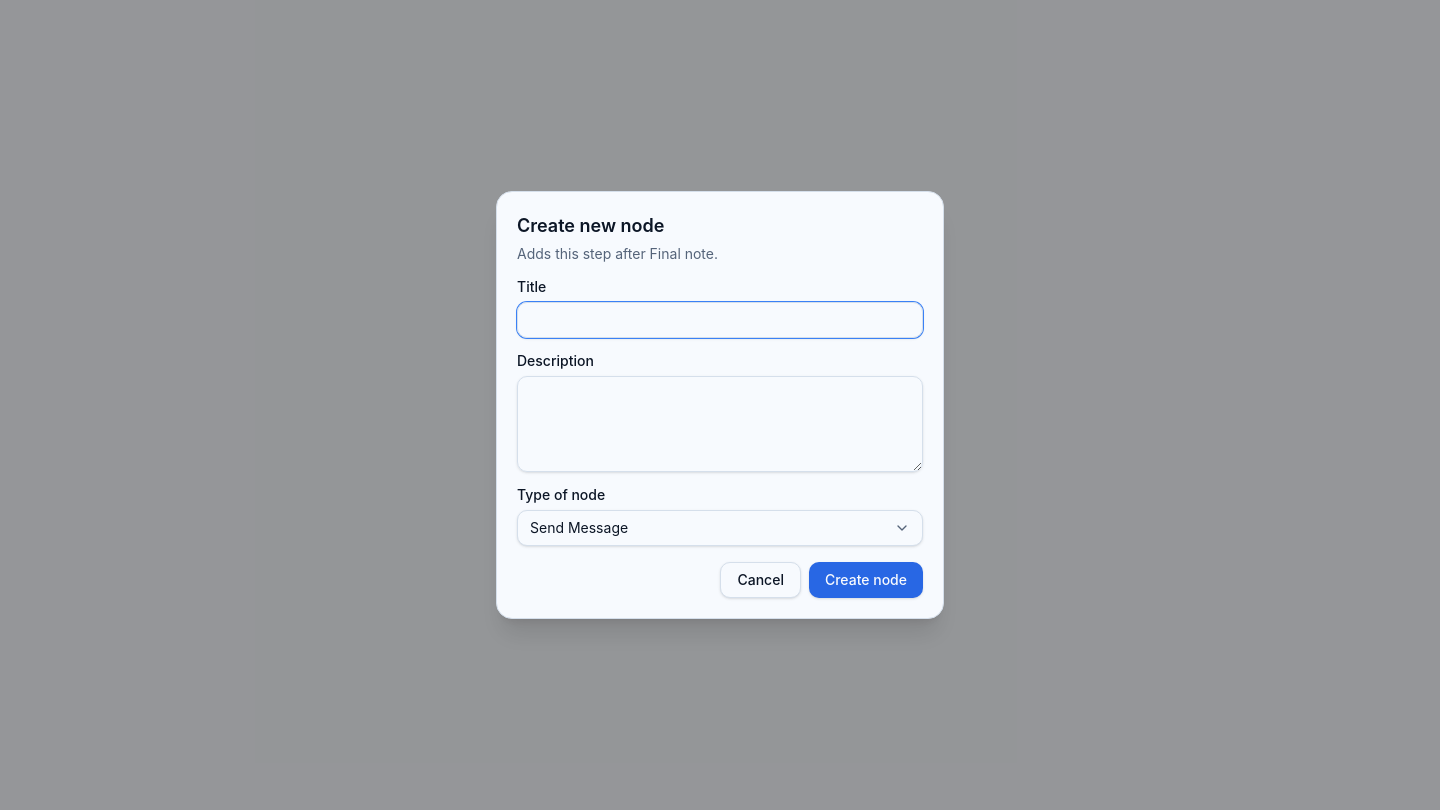
CreateNodeDialog › describes insertion position and keeps every node type available
Step 1. Click the dropdown with id "create-type" → (579,528), box [517,510,923,546]
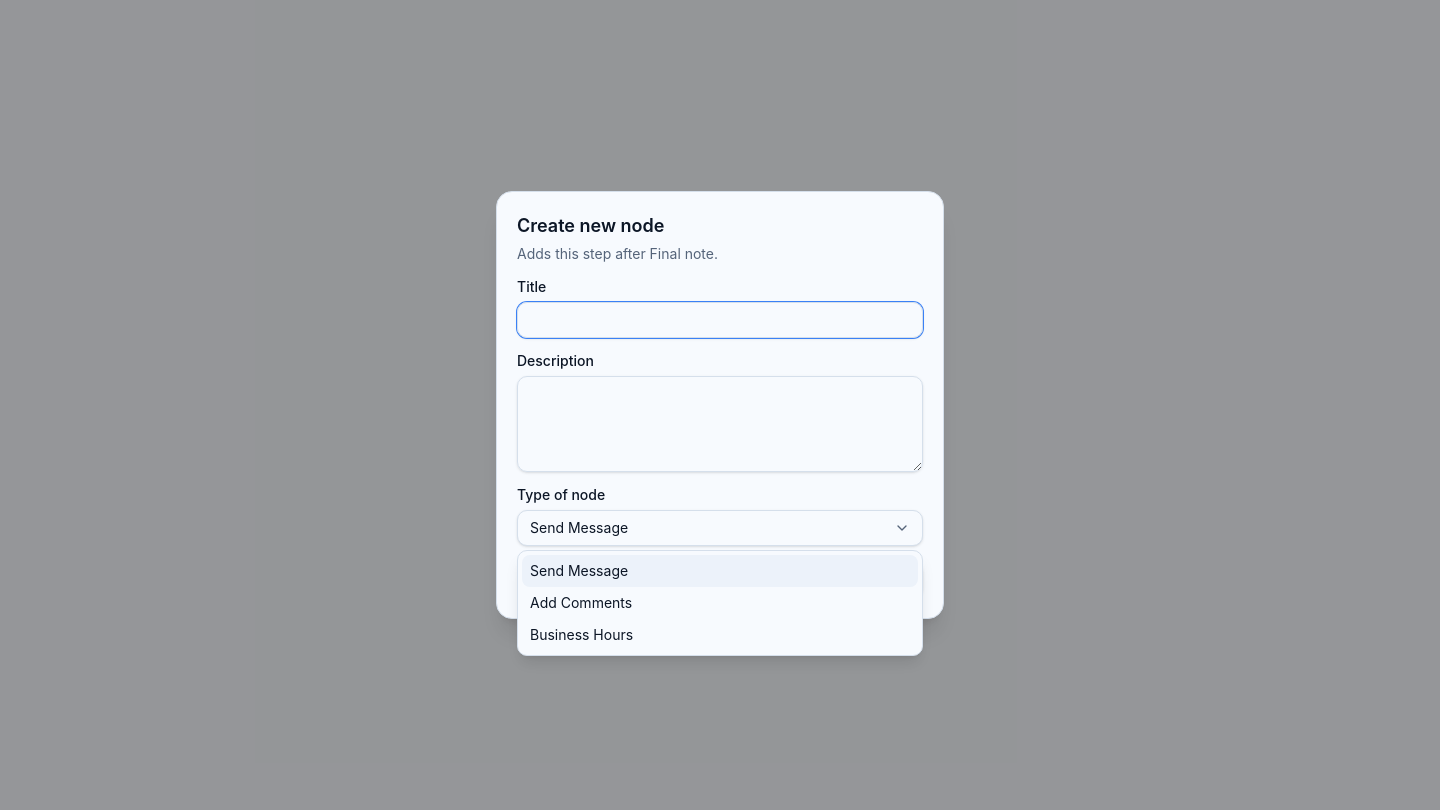
Check: the option "Business Hours" is enabled
Step 2. Click the option "Business Hours" → (582,634), box [522,619,918,651]
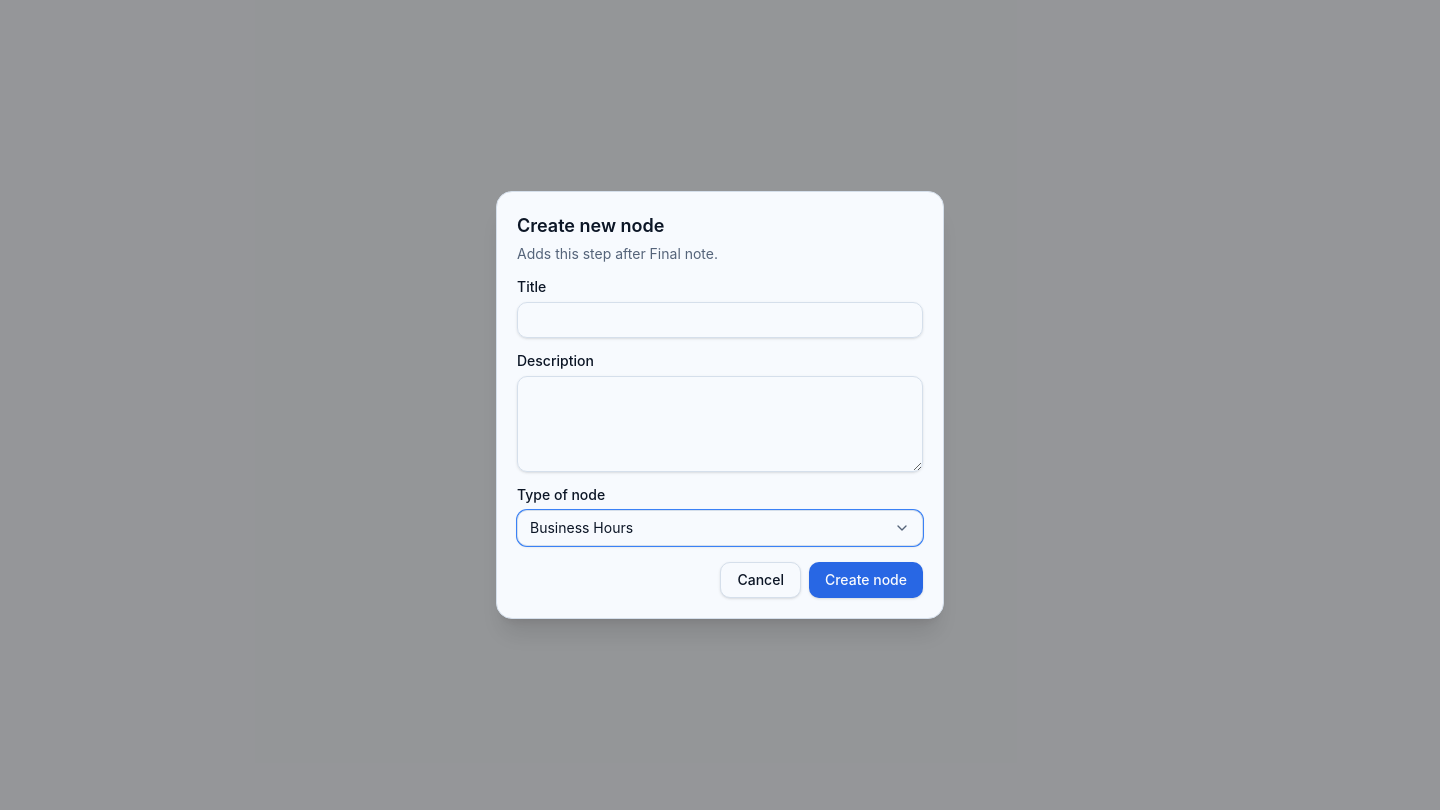
Check: the dropdown labelled "Business Hours" is shown, box [517,510,923,546]
